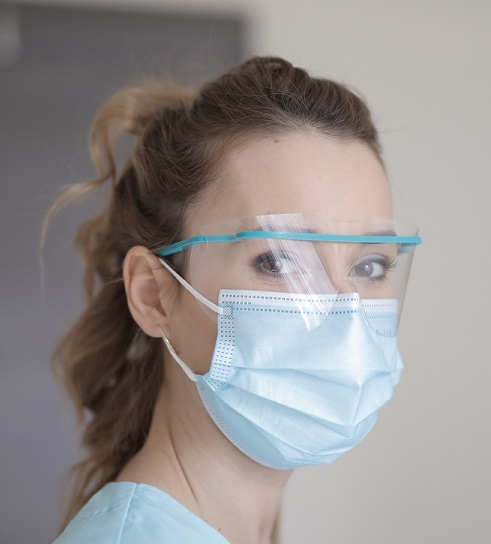Mask: (213, 286, 414, 469)
